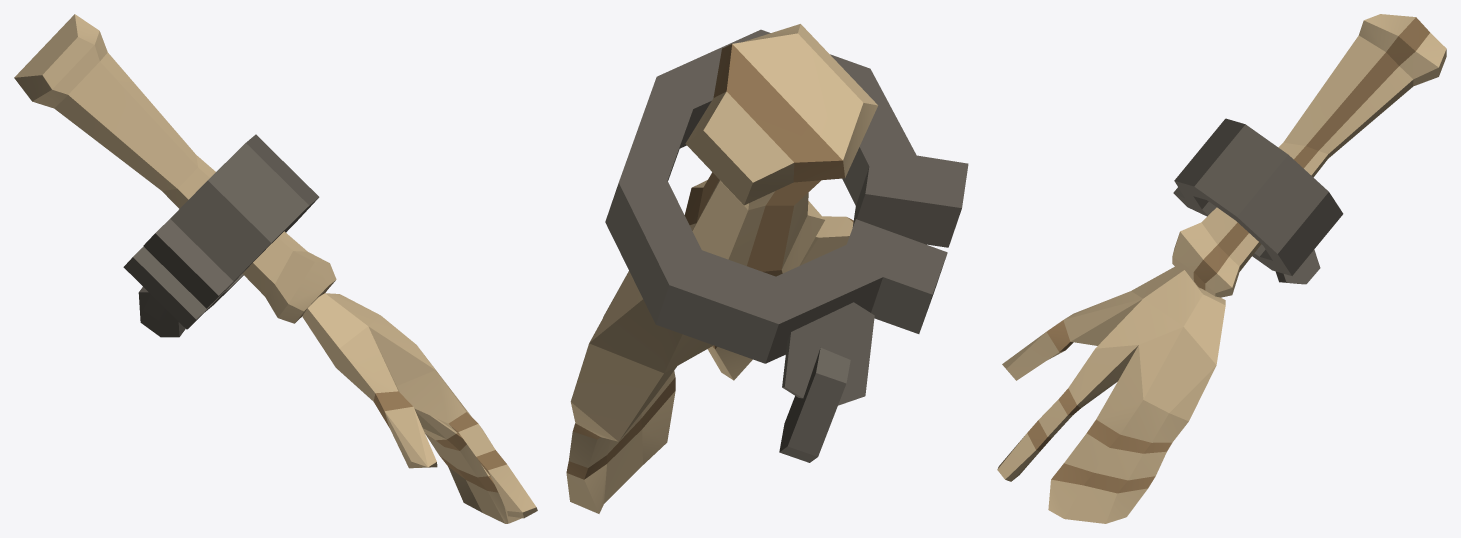
Rendered from ZombieHand.fbx.
The picture shows the model from 3 angles, left to right: view 1: azimuth 30°, elevation 25°; view 2: azimuth 150°, elevation 25°; view 3: azimuth 270°, elevation 25°; orthographic projection. The views are drawn at different scales.
Parts seen in each view (by area): view 1: polySurface5; view 2: polySurface5; view 3: polySurface5.
Part boxes in pixels (x1,y1,x2,y2): polySurface5: [14, 14, 537, 523]; polySurface5: [566, 24, 968, 513]; polySurface5: [997, 14, 1446, 523].
Bounding box in the file's own units: 29.78 × 38.83 × 39.92.
1 material, 1 textured.
